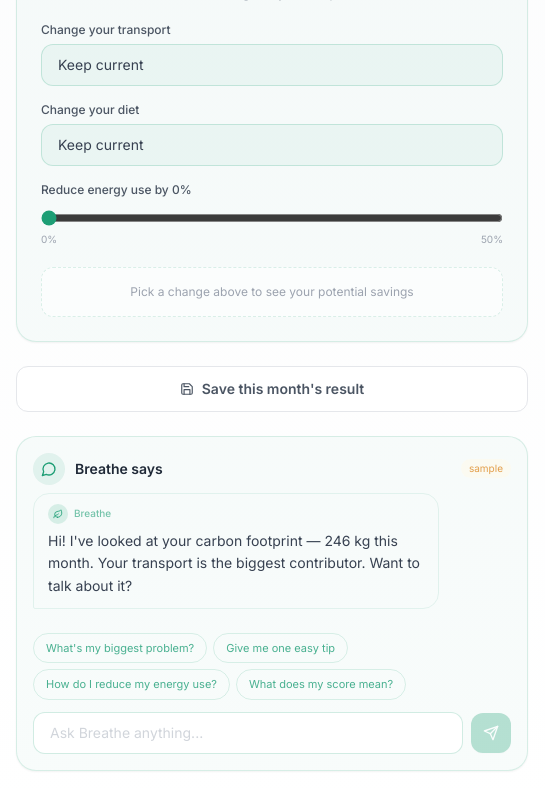
Test case: Dashboard Component › calls saveToHistory when save button is clicked
(page scrolled)
Click the button "Save this month's result" at (272, 388), box [16,366,528,412]
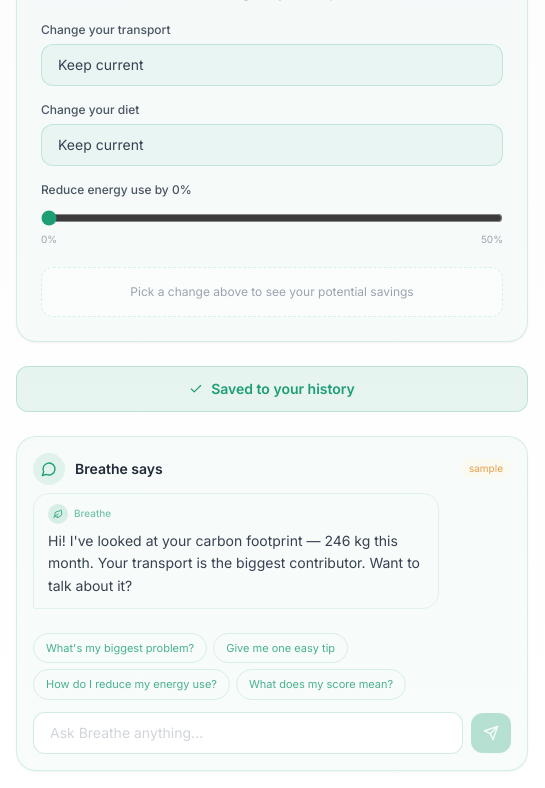
expect the button "Saved to your history" is shown: met, box [16,366,528,412]
